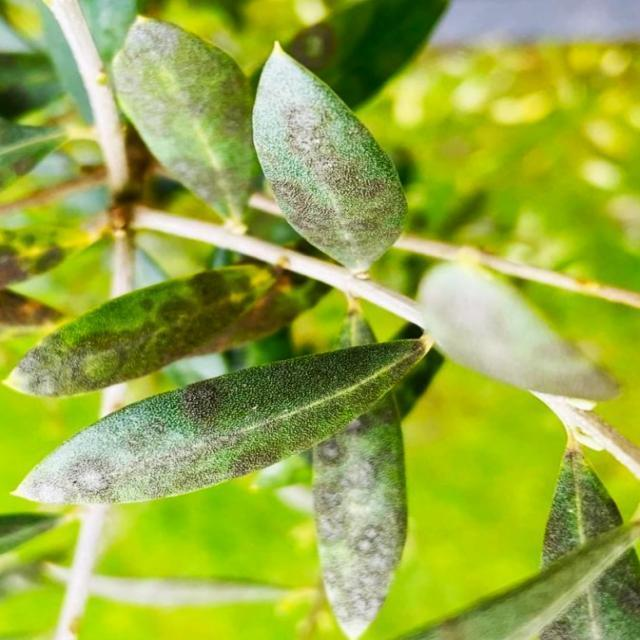OlivePeacockSpot: (13, 340, 429, 503), (5, 261, 298, 396), (253, 42, 406, 272), (110, 17, 260, 232), (312, 393, 406, 639)
